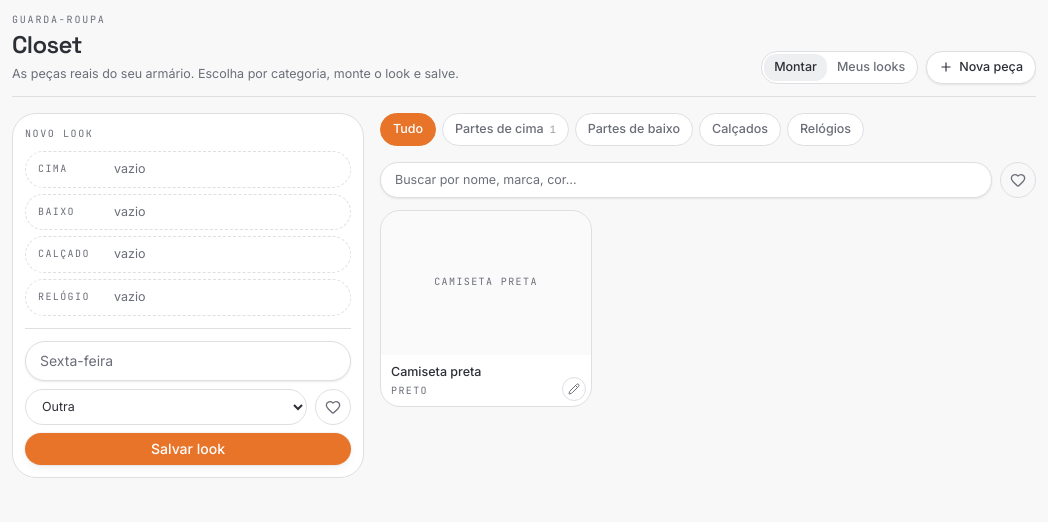
Scenario: building a look › removes a piece from the look without touching the wardrobe
What coordinates should you click on to do the following:
click the button "Camiseta preta Camiseta preta preto"
I would click on:
 (486, 308)
Its box is [380,210,592,407].
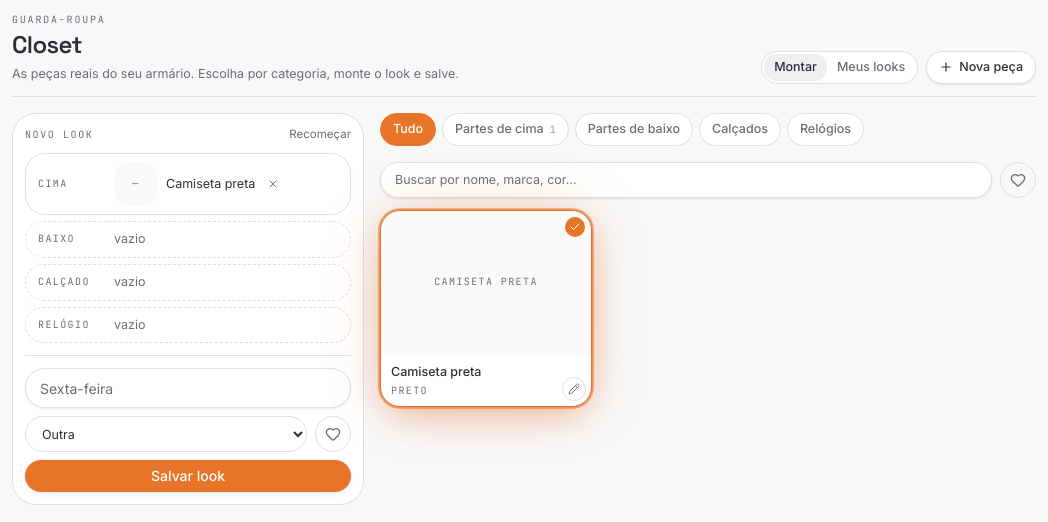
What coordinates should you click on to do the following:
click the button named "Tirar Camiseta preta do look"
I would click on:
 (273, 184)
Its box is [263,174,283,194].
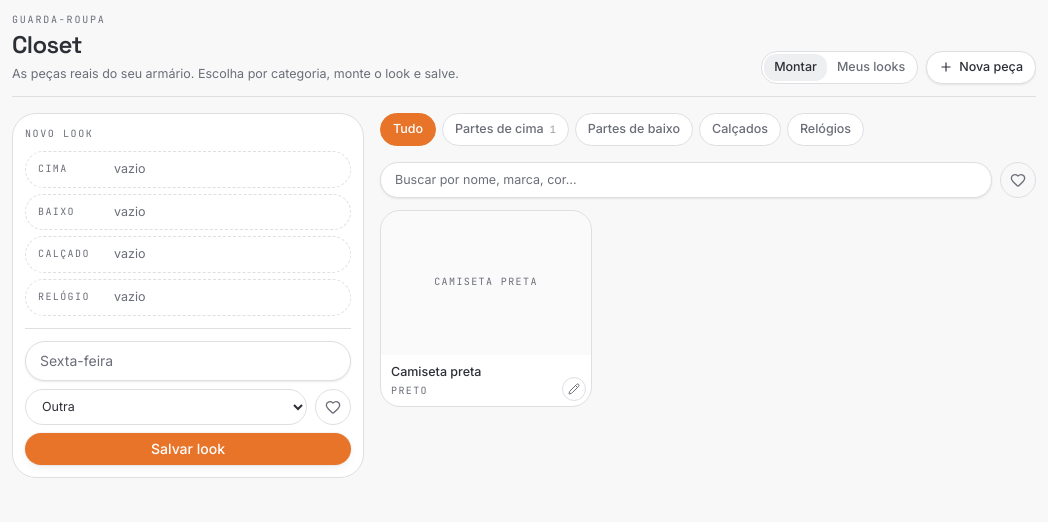
Expected: the button "Camiseta preta Camiseta preta preto" is shown, [380,210,592,407]
Result: the 1st text "vazio" is shown at [114,160,145,179]
